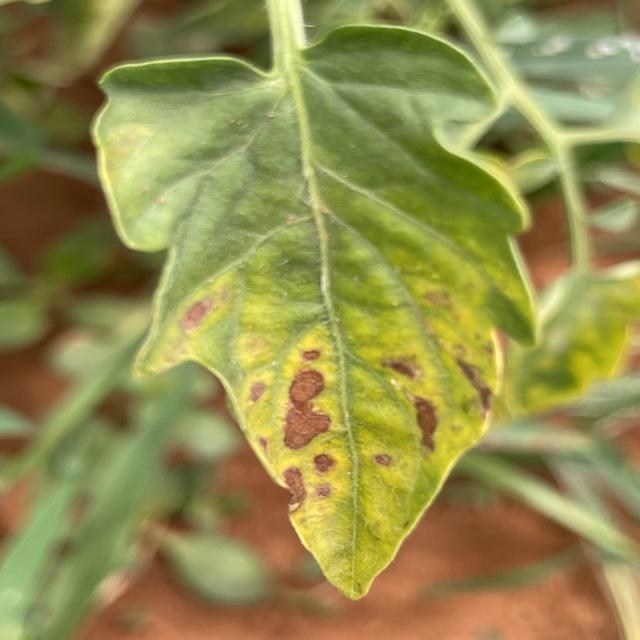tomato_early blight: (92, 23, 536, 599), (507, 248, 640, 419)
